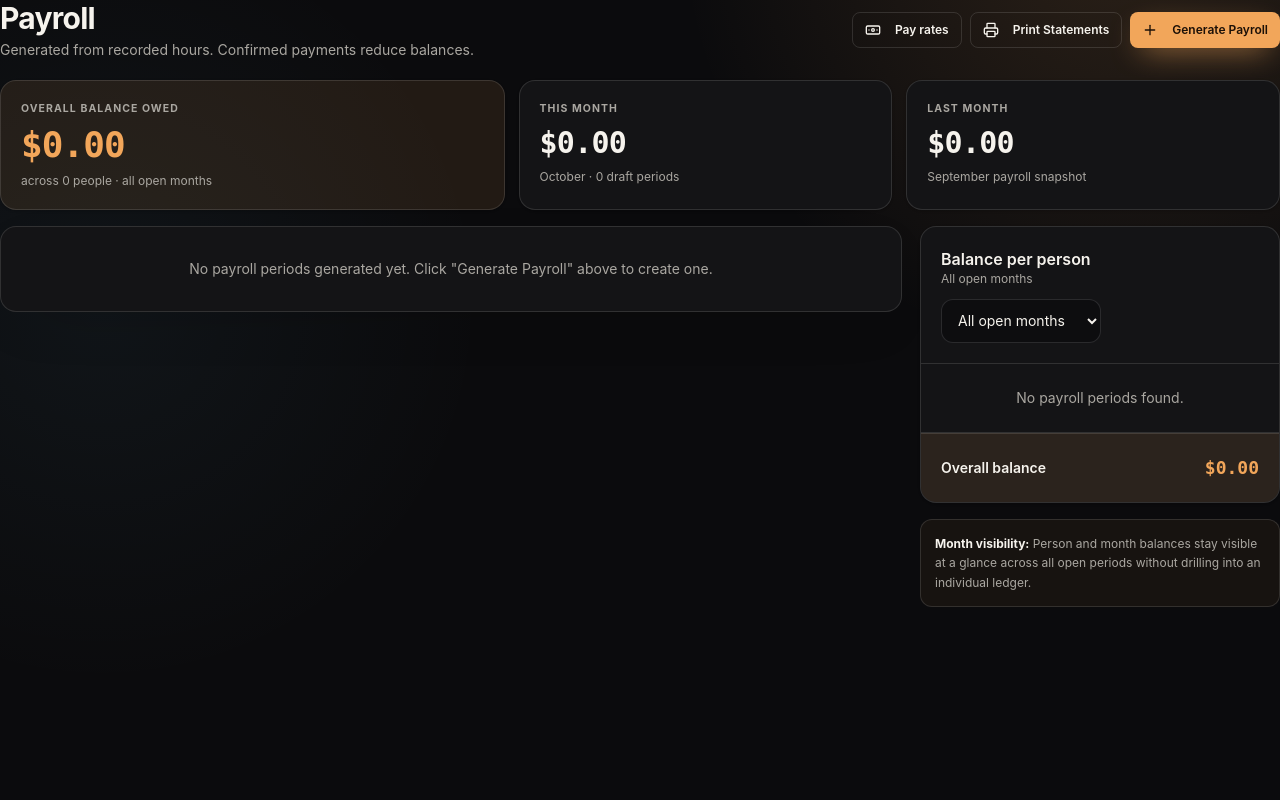
Test case: PayrollWorkspace › bulk-generates payroll for a manager-chosen subset, defaults the checklist to not-yet-generated employees, and reports the mixed outcome clearly
Click the button "Generate Payroll": (1205, 30) [1130, 12, 1279, 48]
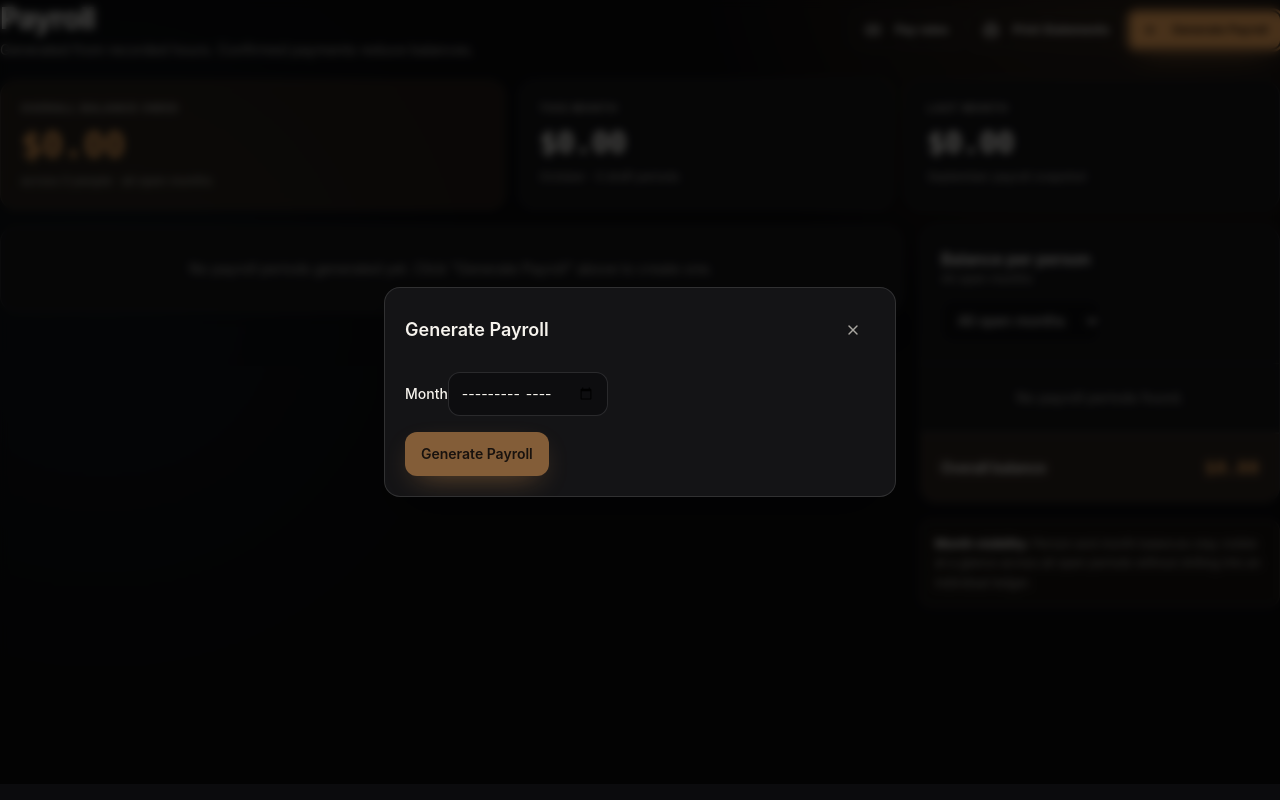
In the field labelled "Month": (528, 394) [448, 372, 608, 416], type "2026-09"
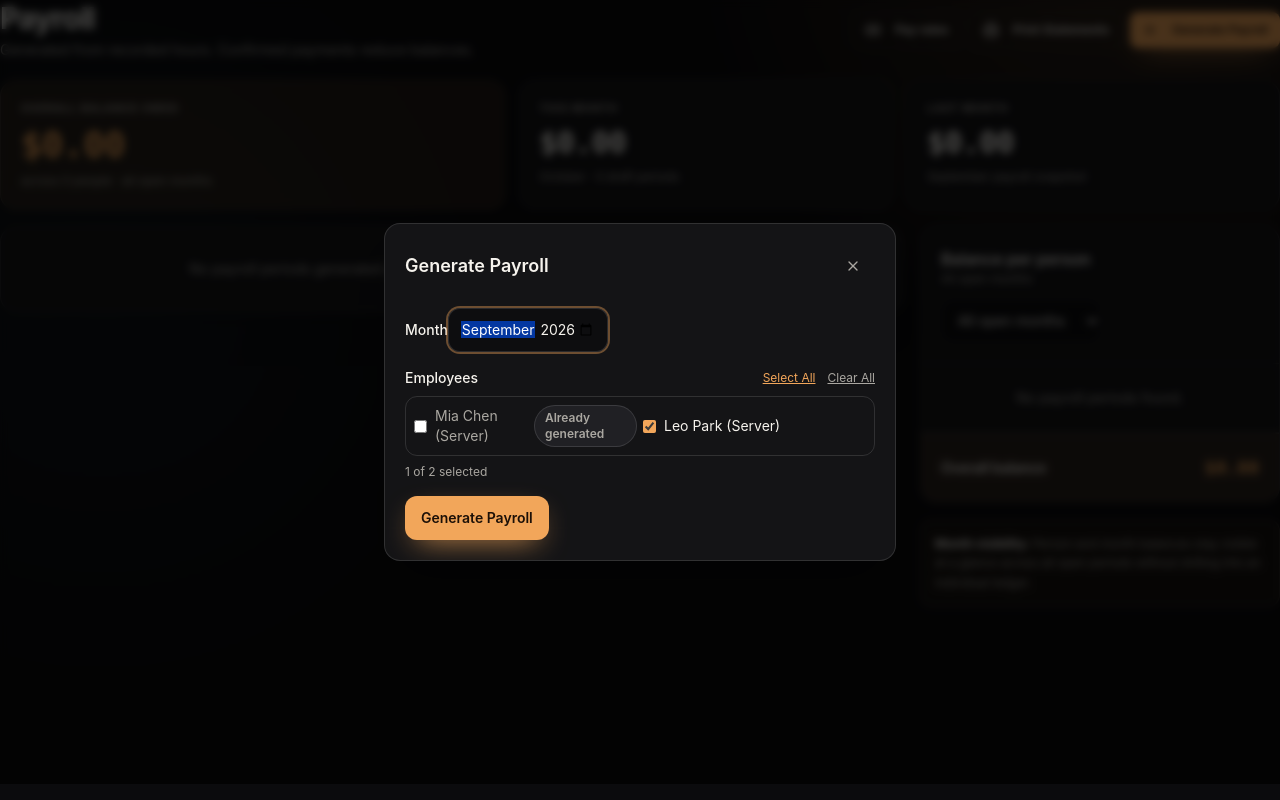
Expected: the text "Already generated" is shown, [534, 405, 637, 447]
Expected: the checkbox labelled "Leo Park (Server)" is checked, [643, 420, 656, 432]
Expected: the checkbox labelled "Mia Chen (Server) Already generated" is not checked, [414, 420, 427, 432]
// Select All switches the button label to the "all employees" copy.
Click the button "Select All": (789, 378) [763, 370, 816, 386]
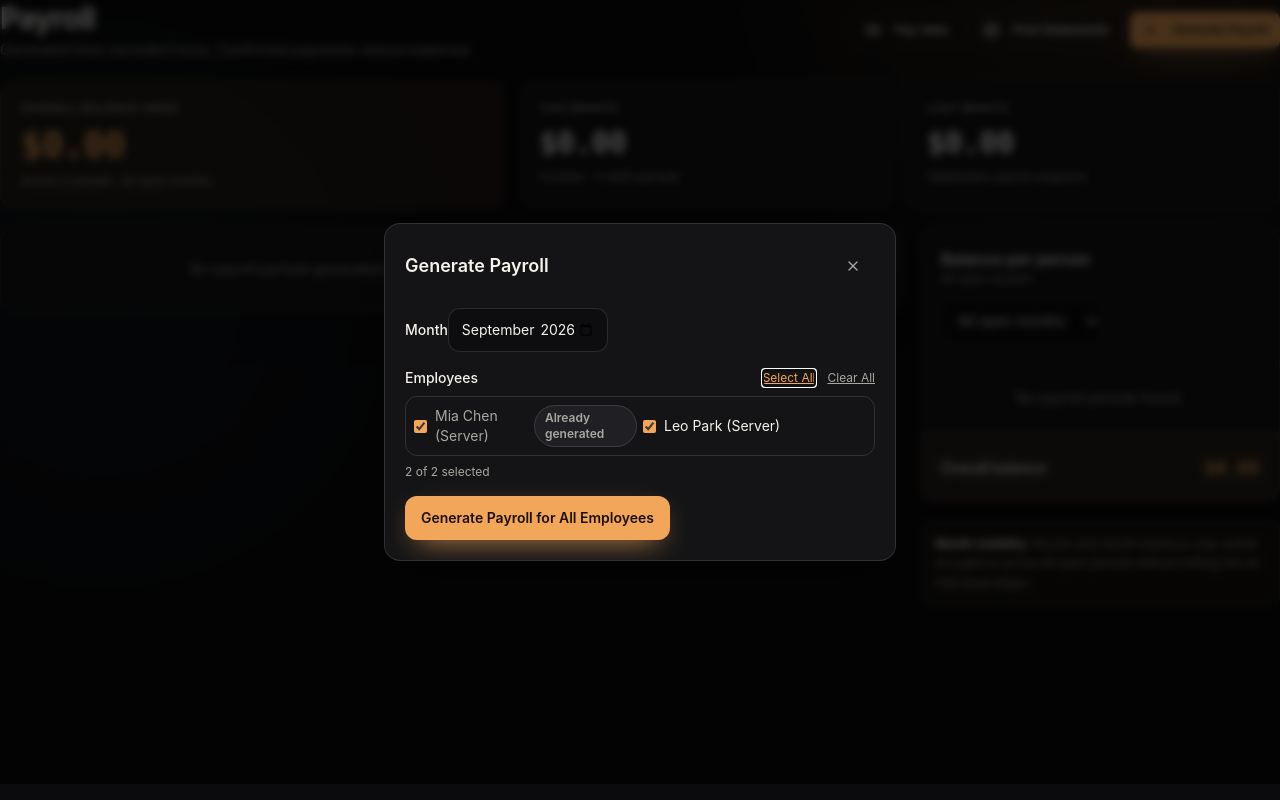
Expected: the checkbox labelled "Mia Chen (Server) Already generated" is checked
Expected: the button "Generate Payroll for All Employees" is shown, [405, 496, 670, 540]
// Deselect Mia again -- back to a plain single-person submit label.
Click the checkbox labelled "Mia Chen (Server) Already generated": (420, 426) [414, 420, 427, 432]
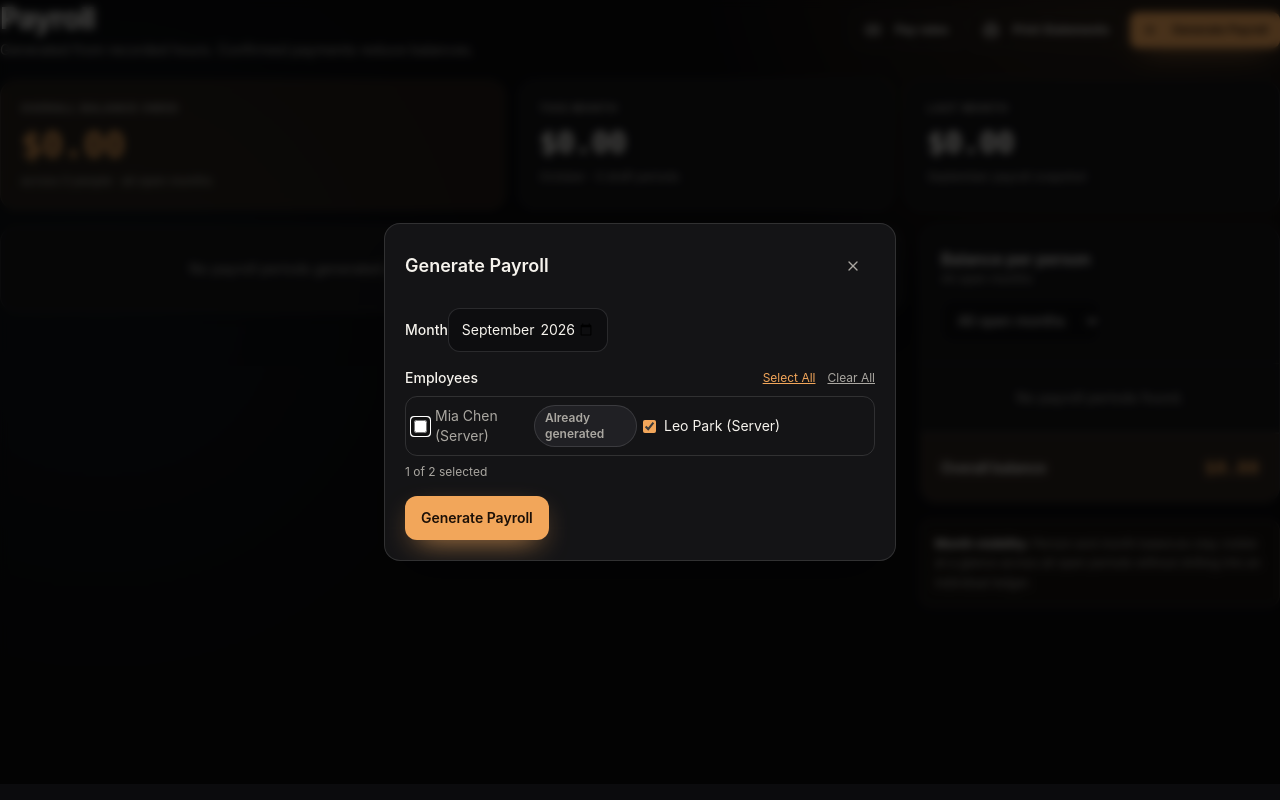
Expected: the button "Generate Payroll" is shown
Click the button "Generate Payroll": (477, 518) [405, 496, 549, 540]
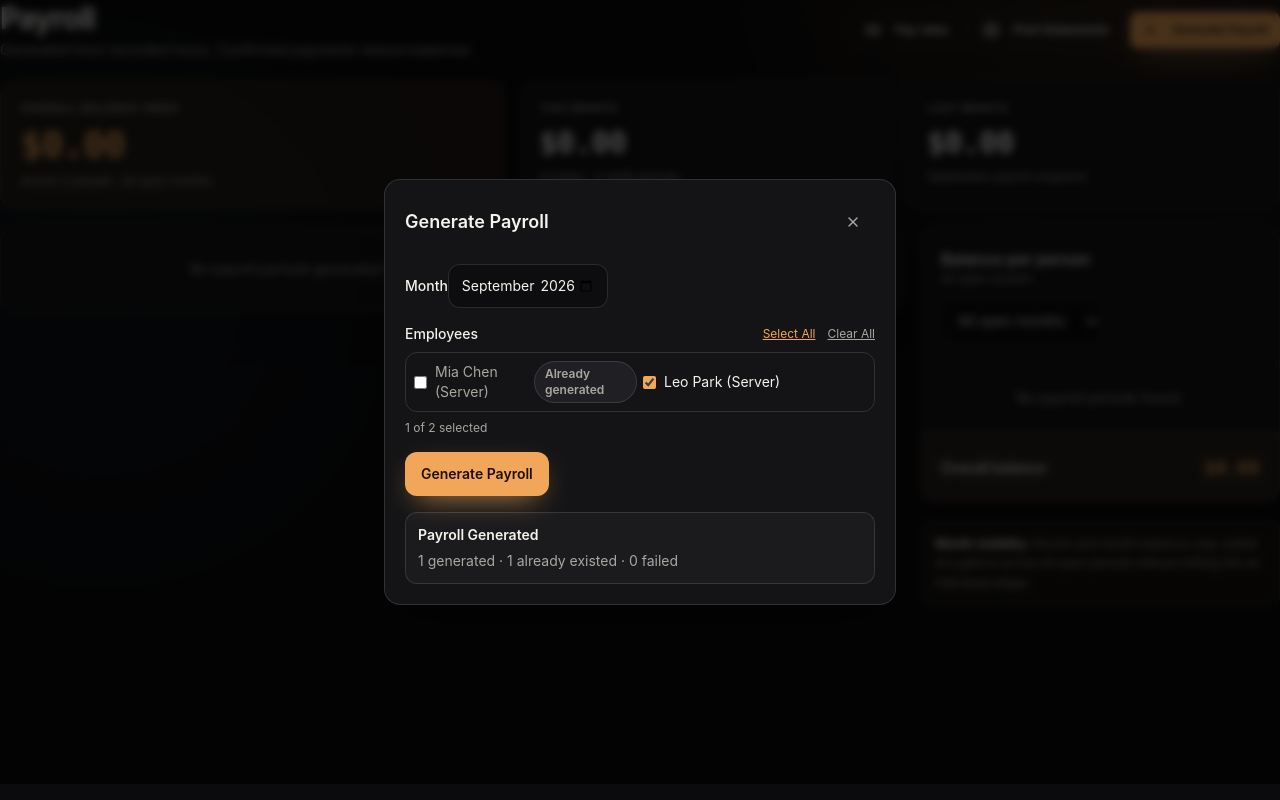
Expected: the dialog "Generate Payroll" is shown, [384, 179, 896, 605]
Expected: the text "Payroll Generated" is shown, [418, 526, 538, 543]
Expected: the text "1 generated · 1 already existed · 0 failed" is shown, [418, 552, 678, 569]
